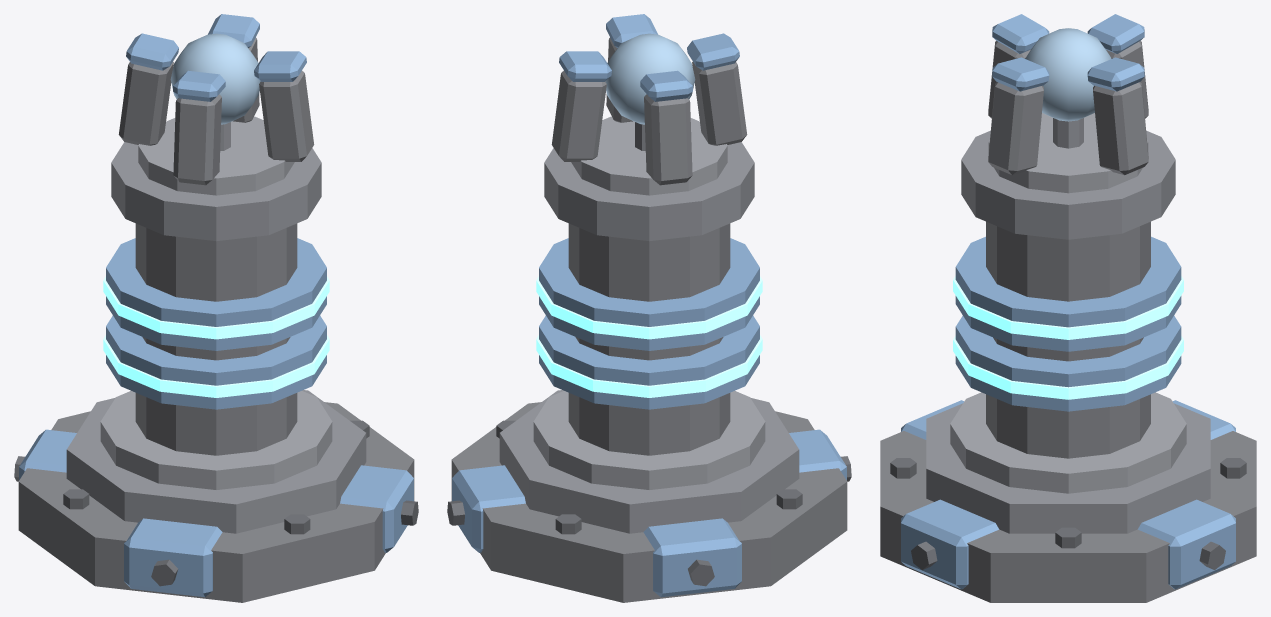
Rendered from TeslaCoil.fbx.
3 renders of one model, left to right at view 1: azimuth 30°, elevation 25°; view 2: azimuth 150°, elevation 25°; view 3: azimuth 270°, elevation 25°, orthographic.
Parts seen in each view (by area): view 1: TeslaCoil.BasePlate, TeslaCoil.CoilBands, TeslaCoil.Column, TeslaCoil.BaseTier, TeslaCoil.Prongs, TeslaCoil.Cap, TeslaCoil.BaseCorners, TeslaCoil.BaseRing, TeslaCoil.CoilGlow, TeslaCoil.CapTop, TeslaCoil.ProngTips, TeslaCoil.Orb (+1 smaller); view 2: TeslaCoil.BasePlate, TeslaCoil.CoilBands, TeslaCoil.Column, TeslaCoil.BaseTier, TeslaCoil.Prongs, TeslaCoil.Cap, TeslaCoil.BaseCorners, TeslaCoil.BaseRing, TeslaCoil.CoilGlow, TeslaCoil.CapTop, TeslaCoil.ProngTips, TeslaCoil.Orb (+1 smaller); view 3: TeslaCoil.BasePlate, TeslaCoil.CoilBands, TeslaCoil.Column, TeslaCoil.BaseTier, TeslaCoil.Cap, TeslaCoil.BaseRing, TeslaCoil.BaseCorners, TeslaCoil.Prongs, TeslaCoil.CoilGlow, TeslaCoil.ProngTips, TeslaCoil.Orb, TeslaCoil.CapTop (+2 smaller).
Boxes of the visible parts, <box> form: TeslaCoil.BasePlate: <box>18,402,414,602</box>; TeslaCoil.CoilBands: <box>106,238,326,409</box>; TeslaCoil.Column: <box>135,223,297,455</box>; TeslaCoil.BaseTier: <box>66,390,366,533</box>; TeslaCoil.Prongs: <box>118,37,314,185</box>; TeslaCoil.Cap: <box>111,142,321,241</box>; TeslaCoil.BaseCorners: <box>19,429,413,597</box>; TeslaCoil.BaseRing: <box>100,391,332,489</box>; TeslaCoil.CoilGlow: <box>103,276,329,397</box>; TeslaCoil.CapTop: <box>138,116,294,195</box>; TeslaCoil.ProngTips: <box>126,14,306,101</box>; TeslaCoil.Orb: <box>170,33,260,124</box>; TeslaCoil.BasePlate: <box>451,402,847,602</box>; TeslaCoil.CoilBands: <box>539,238,759,409</box>; TeslaCoil.Column: <box>568,223,730,455</box>; TeslaCoil.BaseTier: <box>499,390,799,533</box>; TeslaCoil.Prongs: <box>551,37,747,185</box>; TeslaCoil.Cap: <box>544,142,754,241</box>; TeslaCoil.BaseCorners: <box>452,429,846,597</box>; TeslaCoil.BaseRing: <box>533,391,765,489</box>; TeslaCoil.CoilGlow: <box>536,276,762,397</box>; TeslaCoil.CapTop: <box>571,116,727,195</box>; TeslaCoil.ProngTips: <box>559,14,739,101</box>; TeslaCoil.Orb: <box>605,33,695,124</box>; TeslaCoil.BasePlate: <box>880,431,1256,602</box>; TeslaCoil.CoilBands: <box>955,236,1181,411</box>; TeslaCoil.Column: <box>986,221,1150,458</box>; TeslaCoil.BaseTier: <box>926,403,1210,533</box>; TeslaCoil.Cap: <box>961,130,1175,239</box>; TeslaCoil.BaseRing: <box>950,392,1186,493</box>; TeslaCoil.BaseCorners: <box>901,400,1235,589</box>; TeslaCoil.Prongs: <box>988,41,1148,175</box>; TeslaCoil.CoilGlow: <box>953,276,1183,399</box>; TeslaCoil.ProngTips: <box>992,14,1144,91</box>; TeslaCoil.Orb: <box>1025,28,1111,121</box>; TeslaCoil.CapTop: <box>988,113,1148,193</box>.
Size of the model in its own units: 6.84 by 9.85 by 6.84.
